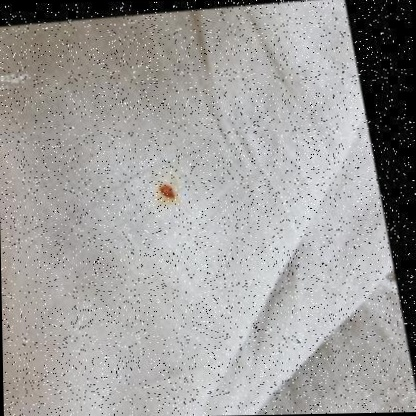kimchi: (154, 174, 178, 205)
